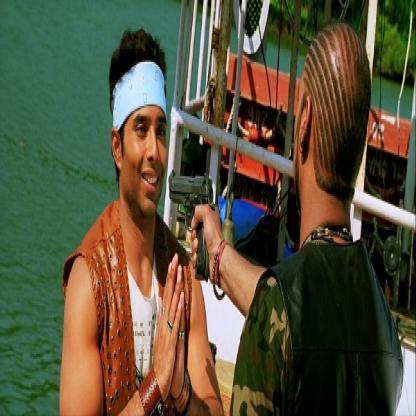Guns: (165, 163, 216, 286)
